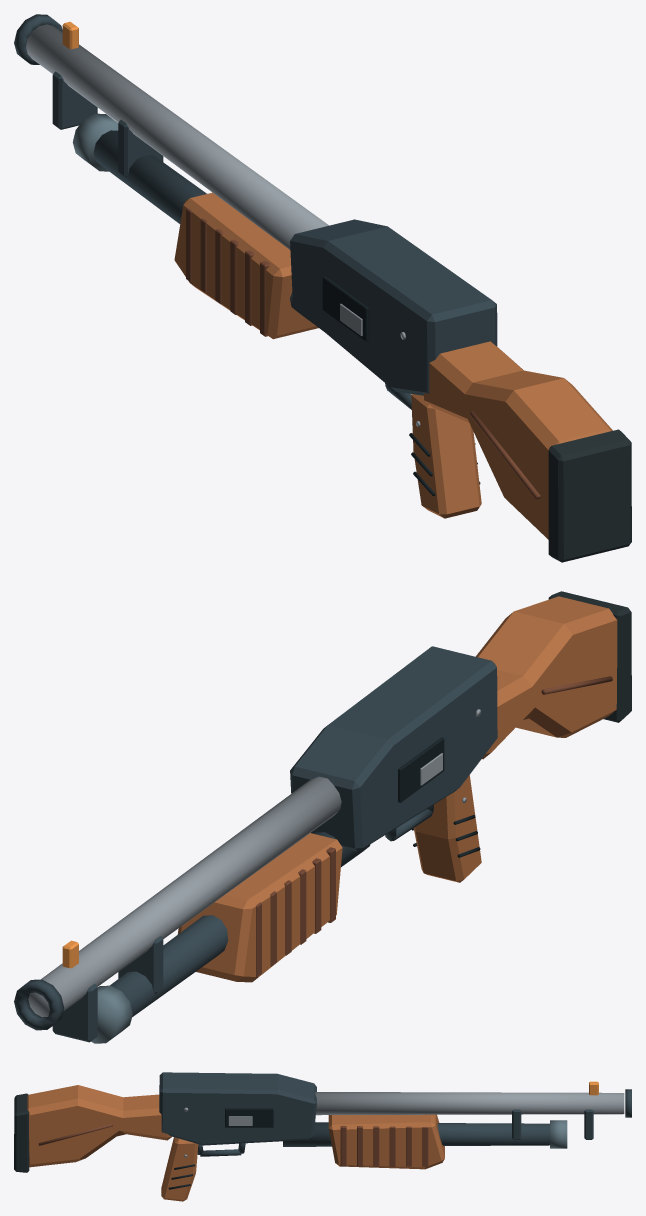
The model's file is WpnShotgun.glb.
The picture shows the model from 3 angles, top to bottom: view 1: azimuth 30°, elevation 25°; view 2: azimuth 150°, elevation 25°; view 3: azimuth 270°, elevation 25°; orthographic projection. The views are drawn at different scales.
Visible parts, largest first — view 1: WpnShotgun; view 2: WpnShotgun; view 3: WpnShotgun.
Boxes of the visible parts, x1,y1,x2,y2 form: WpnShotgun: (14,14,631,562); WpnShotgun: (14,591,631,1043); WpnShotgun: (14,1072,631,1201).
Size of the model in its own units: 0.096 by 0.2372 by 1.14.
